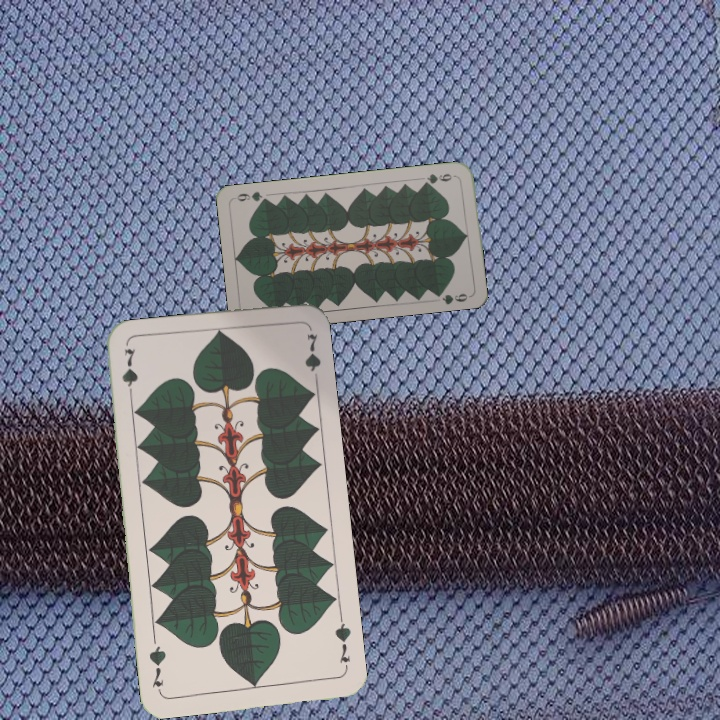G7: (118, 344, 140, 404), (331, 614, 353, 673)
G9: (419, 170, 454, 188)
